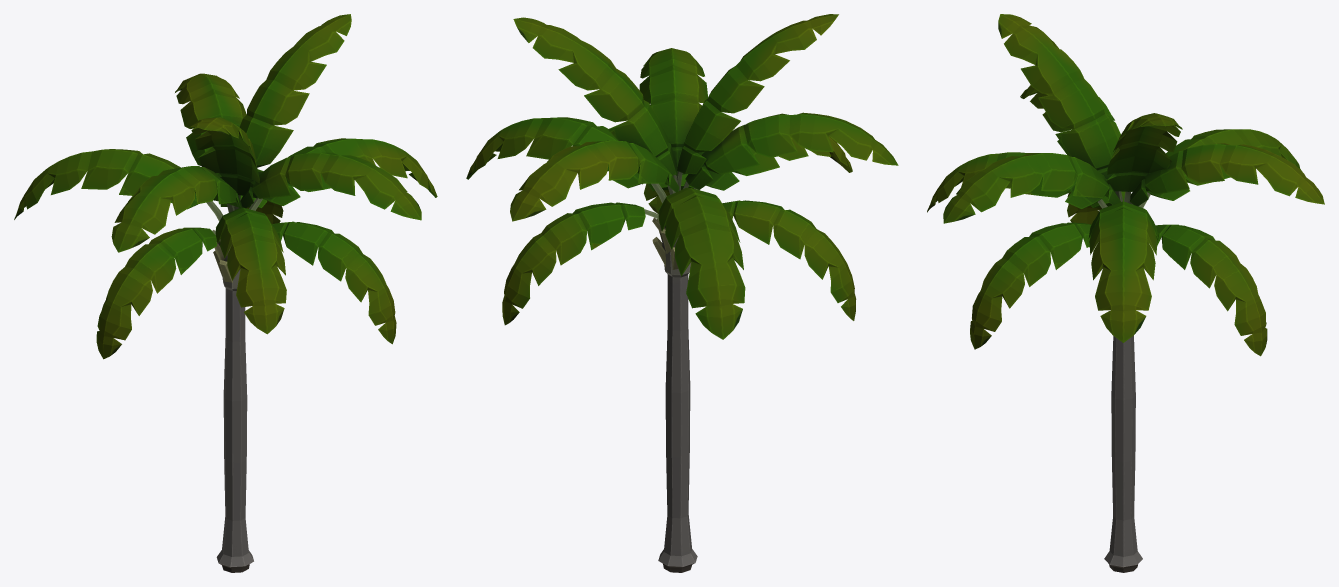
Rendered from QueenPalmTree.gltf.
3 views of the same model, side by side, from view 1: azimuth 30°, elevation 25°; view 2: azimuth 150°, elevation 25°; view 3: azimuth 270°, elevation 25° (orthographic). The views are drawn at different scales.
Visible parts, largest first — view 1: node-0; view 2: node-0; view 3: node-0.
Part boxes in pixels (bbox=[...]): node-0: bbox=[14, 14, 437, 572]; node-0: bbox=[466, 14, 898, 572]; node-0: bbox=[927, 14, 1324, 572].
Bounding box in the file's own units: 10.7 × 14.17 × 10.06.
Materials: 1 (1 with a texture image).
